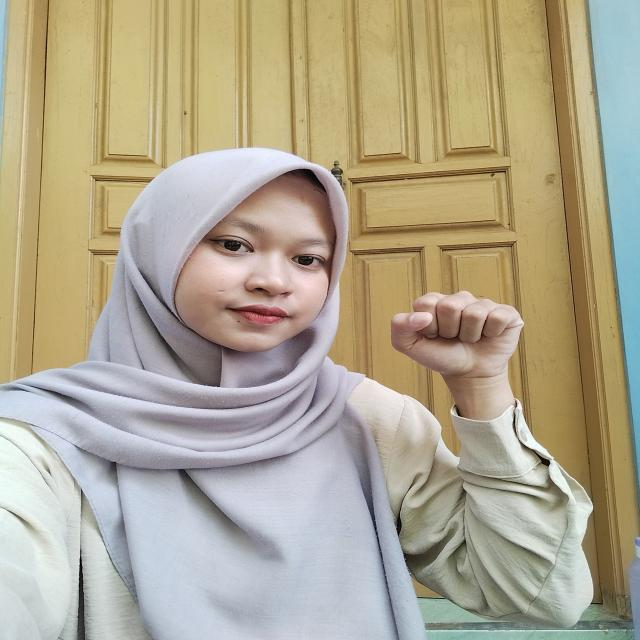baik: (366, 278, 546, 443)
